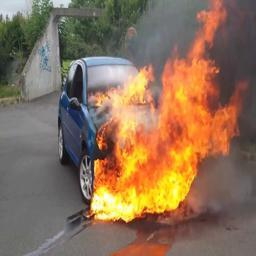fire: (90, 0, 248, 223)
